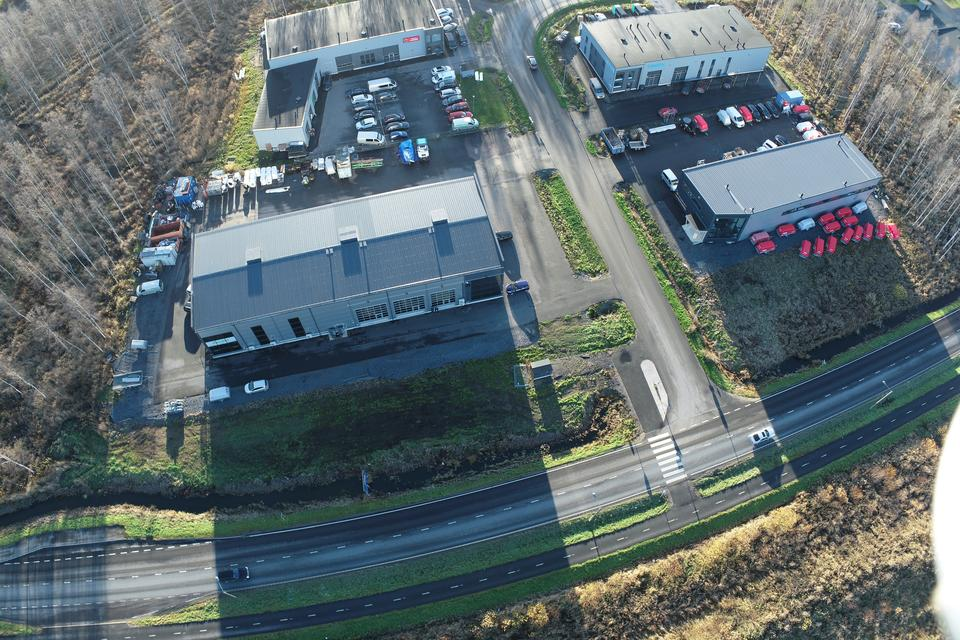intersection: (610, 384, 780, 576)
